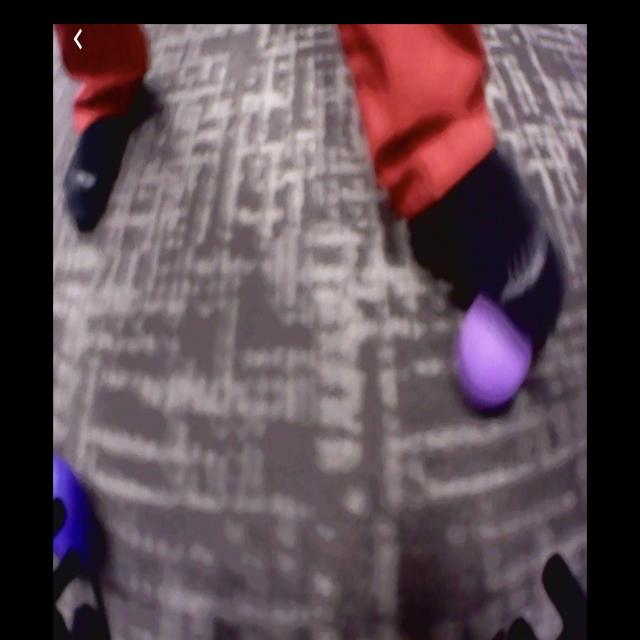ball: (460, 295, 529, 406), (55, 455, 86, 562)
